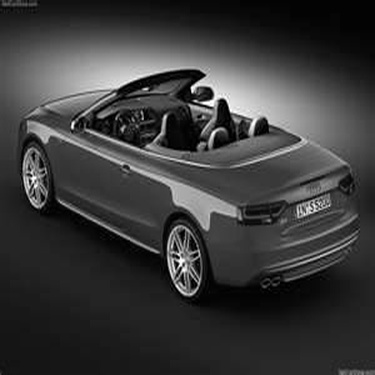car: (1, 63, 365, 307)
